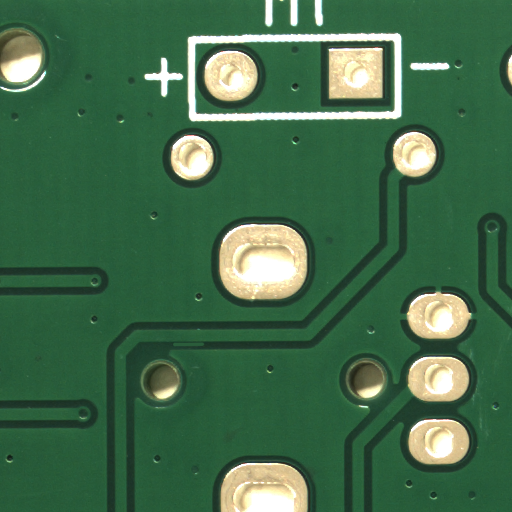Spurious_copper: (186, 344, 221, 351)
